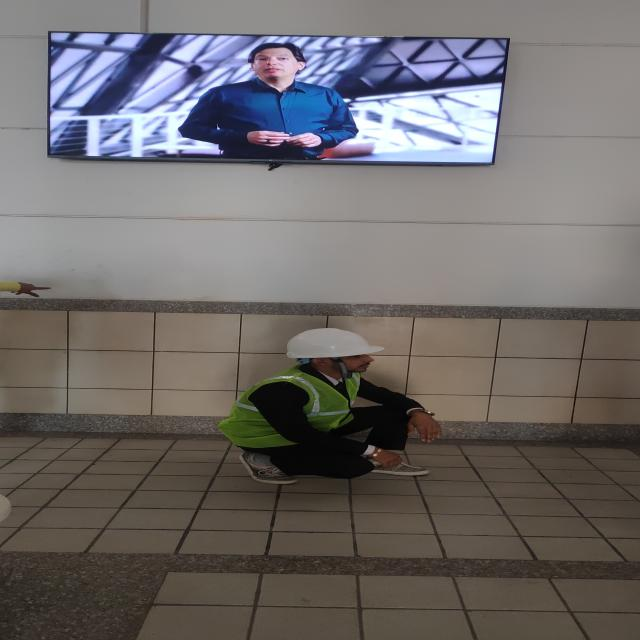safe: (218, 328, 440, 484)
